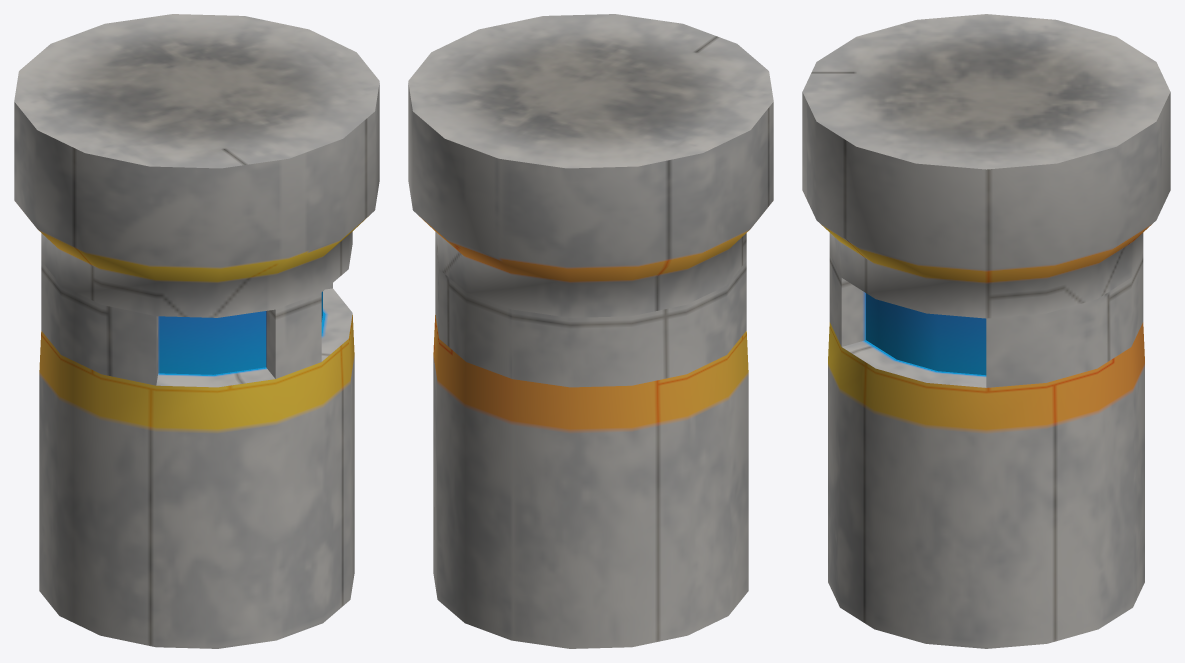
File: Crev_01.fbx
The picture shows the model from 3 angles, left to right: view 1: azimuth 30°, elevation 25°; view 2: azimuth 150°, elevation 25°; view 3: azimuth 270°, elevation 25°; orthographic projection.
Visible parts, largest first — view 1: Crev_01; view 2: Crev_01; view 3: Crev_01.
Part boxes in pixels (box(x1,y1,x2,y2)): Crev_01: box(14, 14, 379, 648); Crev_01: box(408, 14, 773, 648); Crev_01: box(802, 14, 1170, 648).
Bounding box in the file's own units: 35.13 × 51.64 × 35.13.
1 material, 1 textured.
